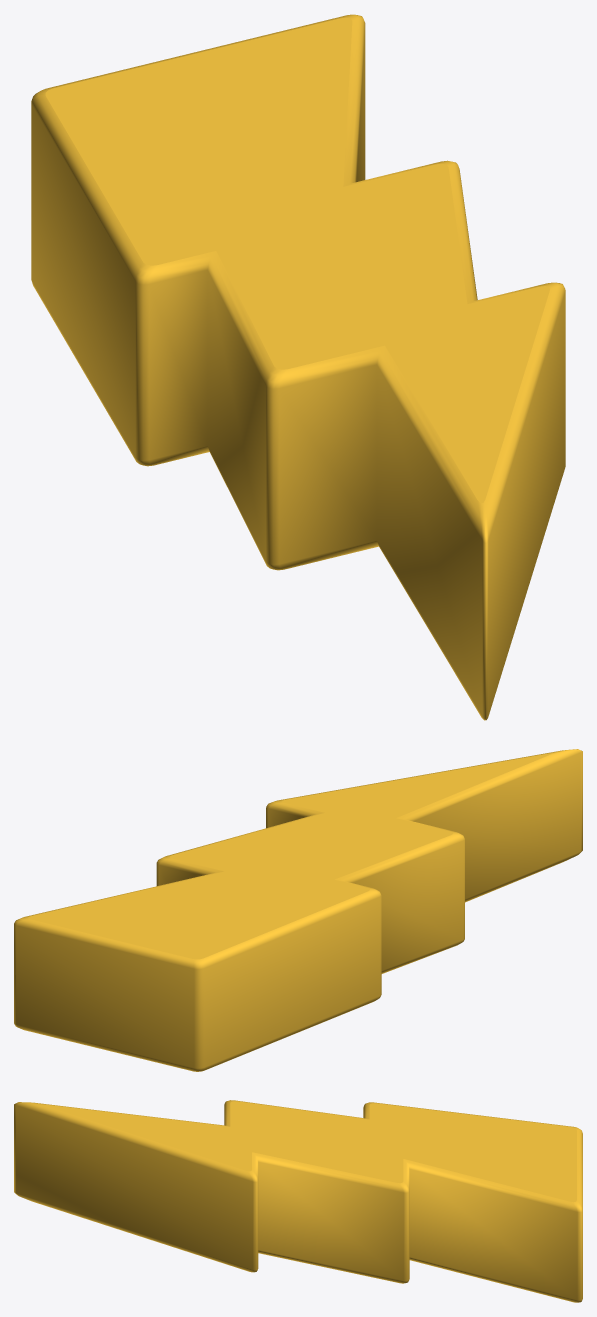
File: Lightning.fbx
The picture shows the model from 3 angles, top to bottom: view 1: azimuth 30°, elevation 25°; view 2: azimuth 150°, elevation 25°; view 3: azimuth 270°, elevation 25°; orthographic projection. The views are drawn at different scales.
Parts seen in each view (by area): view 1: LightningBolt; view 2: LightningBolt; view 3: LightningBolt.
Boxes of the visible parts, <box> form: LightningBolt: <box>31,14,565,720</box>; LightningBolt: <box>14,749,582,1071</box>; LightningBolt: <box>14,1100,582,1302</box>.
Size of the model in its own units: 81.63 by 34.46 by 179.
